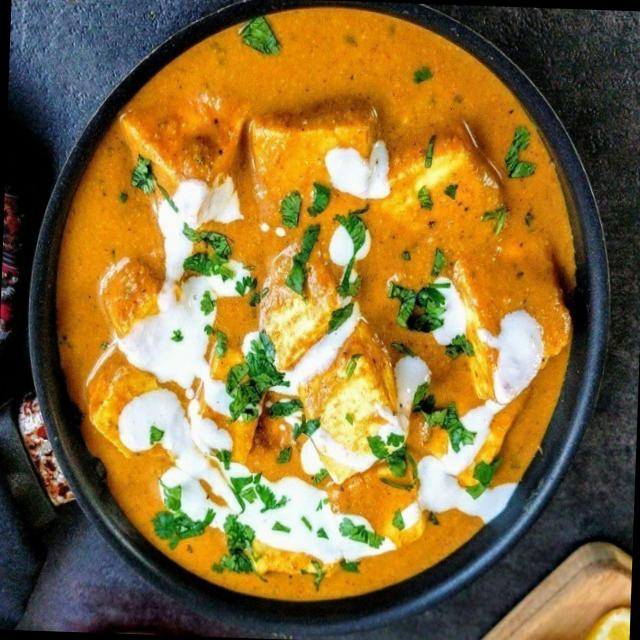ShahiPaneer: (44, 0, 583, 615)
